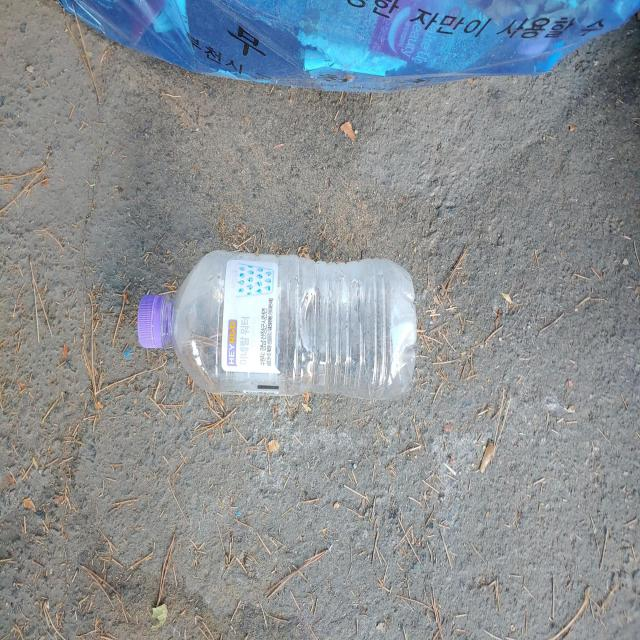plastic: (137, 251, 417, 398)
